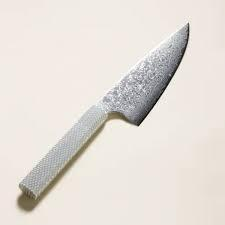Knife: (18, 21, 190, 200)
